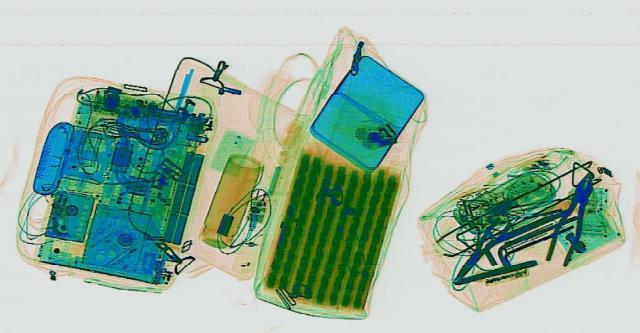Pliers: (540, 169, 602, 265), (441, 215, 517, 281)
